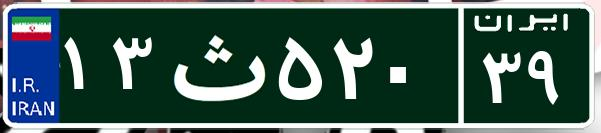0: (385, 28, 445, 110)
1: (57, 26, 110, 107)
2: (330, 28, 385, 110)
3: (475, 38, 525, 113), (110, 28, 158, 105)
5: (273, 28, 330, 110)
9: (525, 38, 570, 115)
ث: (158, 15, 273, 115)
